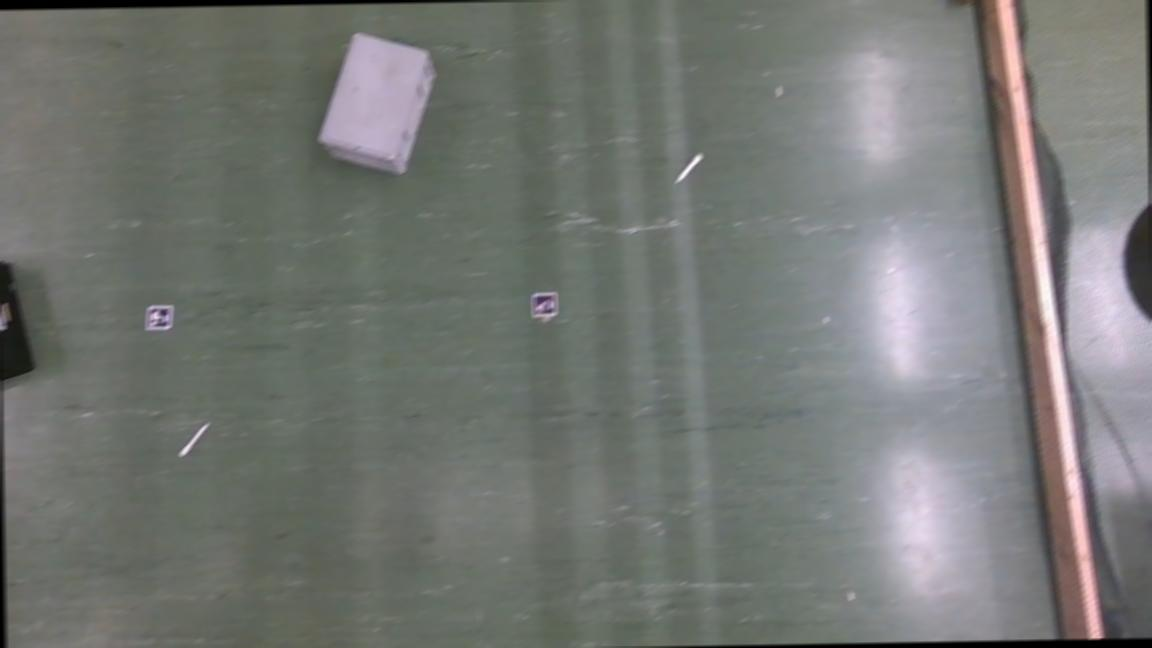probes: (180, 424, 209, 458), (678, 155, 701, 184)
rako: (318, 33, 437, 179), (0, 255, 34, 397)
